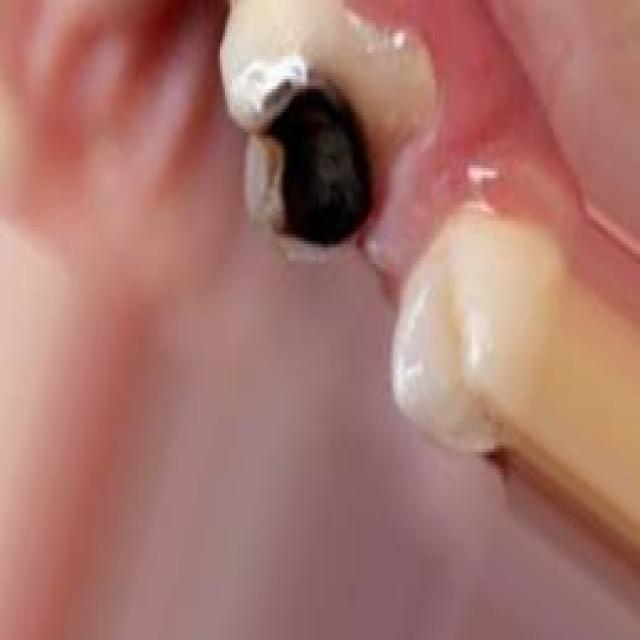caries: (227, 42, 395, 272)
